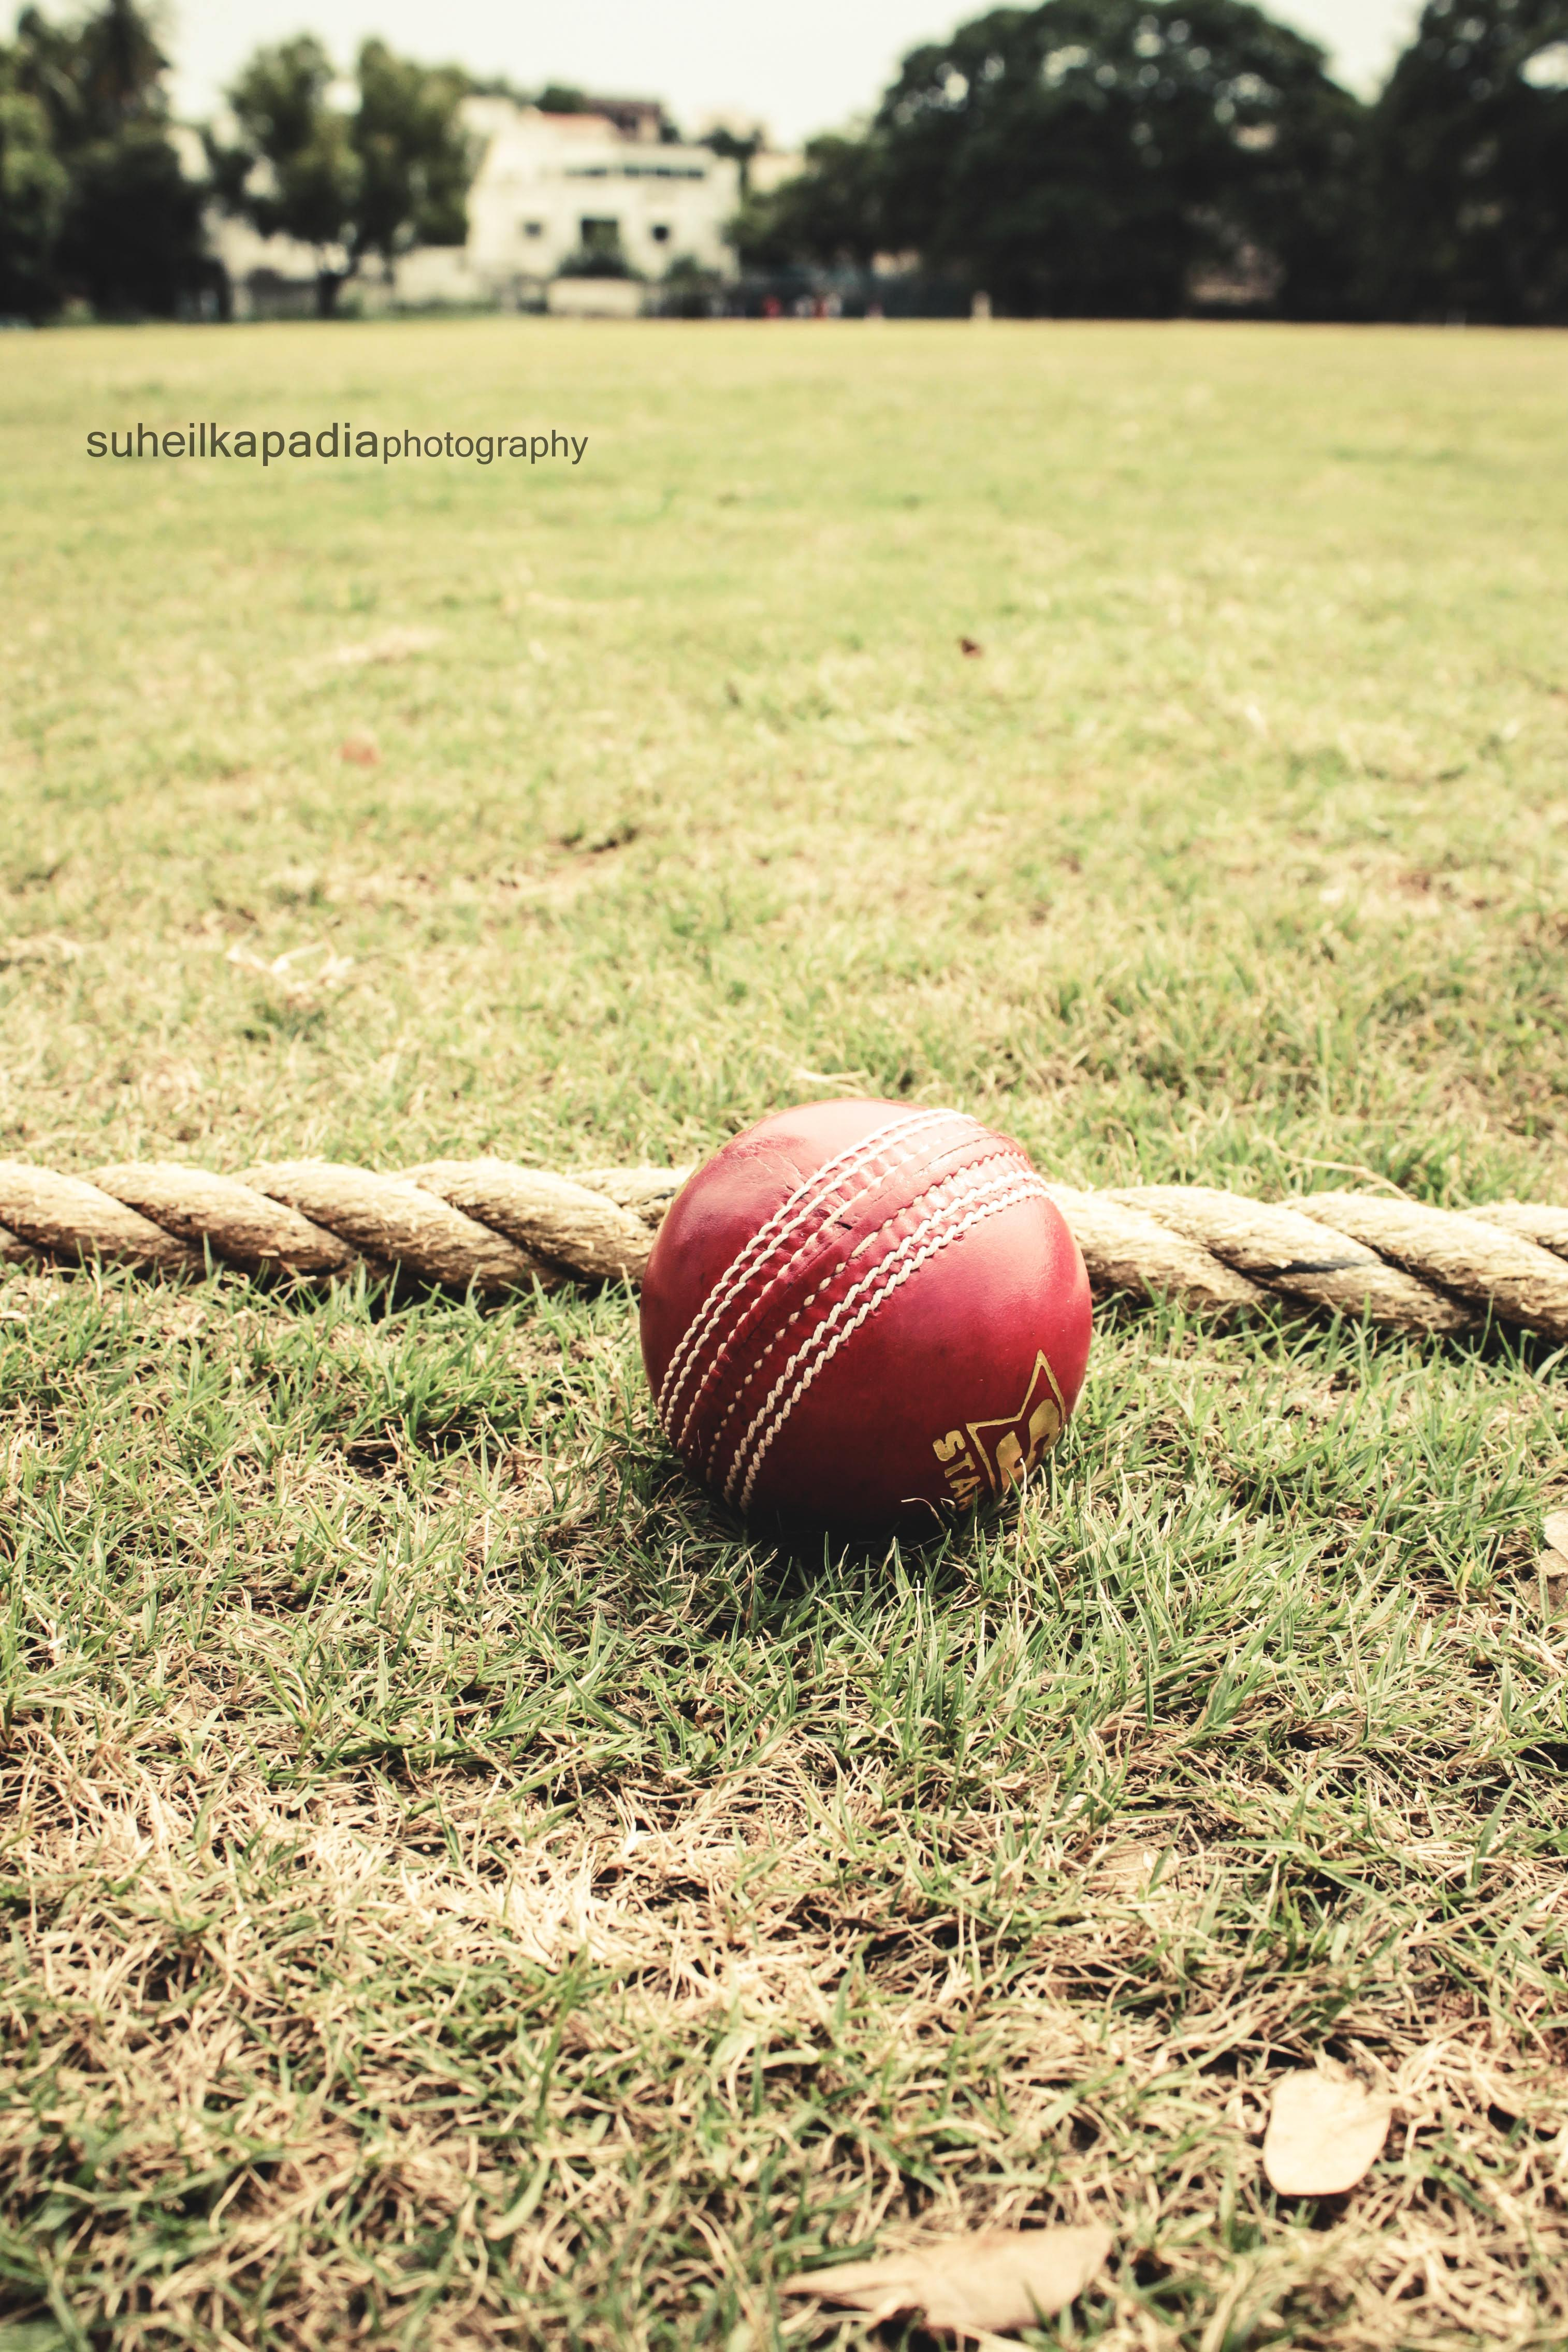Red_Ball: (623, 1090, 1085, 1557)
